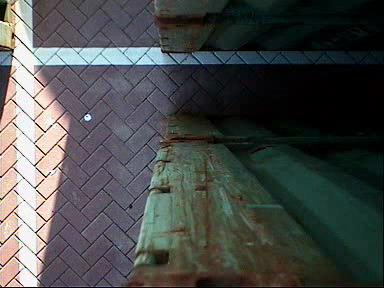groundmarker_2: (195, 123, 279, 249)
